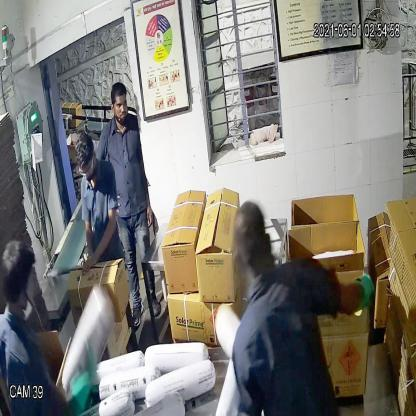goggles: (76, 158, 96, 181)
